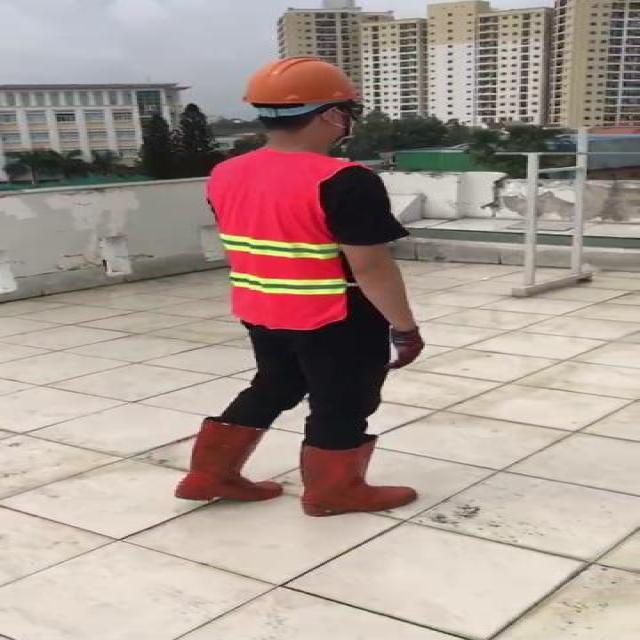boots: (302, 436, 423, 515), (172, 419, 282, 503)
hand_glove: (388, 327, 427, 368)
head_helmet: (236, 54, 370, 108)
person: (153, 58, 451, 531)
vest: (210, 151, 352, 330)
